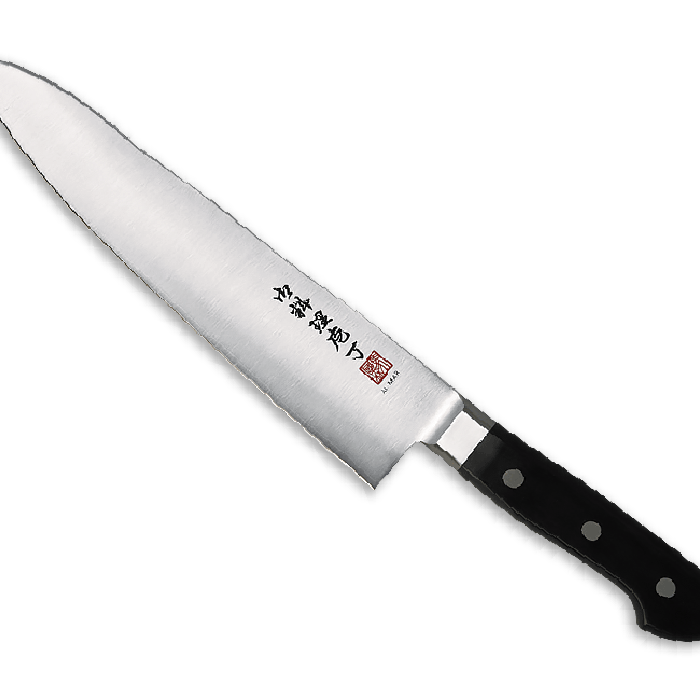knife: (2, 54, 700, 640)
